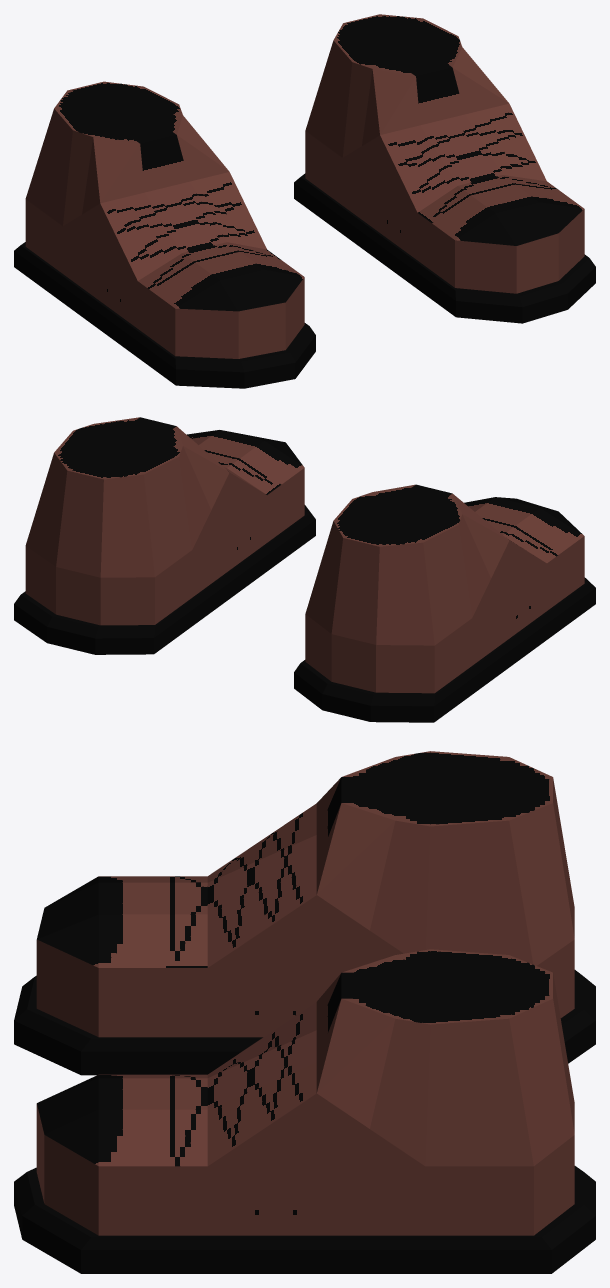
The model's file is boots.glb.
3 renders of one model, top to bottom at view 1: azimuth 30°, elevation 25°; view 2: azimuth 150°, elevation 25°; view 3: azimuth 270°, elevation 25°, orthographic. The views are drawn at different scales.
Visible parts, largest first — view 1: Cube; view 2: Cube; view 3: Cube.
Boxes of the visible parts, left/top/right/bottom form: Cube: left=14, top=14, right=595, bottom=388; Cube: left=14, top=417, right=595, bottom=722; Cube: left=14, top=751, right=595, bottom=1273.
Bounding box in the file's own units: 6 × 2.23 × 4.95.
1 material, 1 textured.
